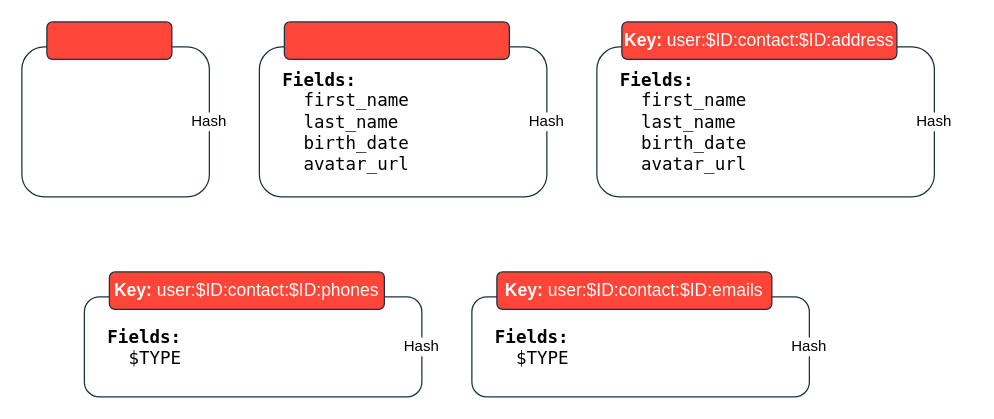
Some shapes in this 994 by 419 pixel diagram are drawn without their labels. The box of each missing label's shape, as (x1, y1, x2, y2) in pixels:
Fields: first_name last_name email password: (21, 46, 209, 197)
Key: user:$ID: (46, 21, 172, 59)
Key: user:$ID:contact:$ID: (283, 21, 509, 59)
